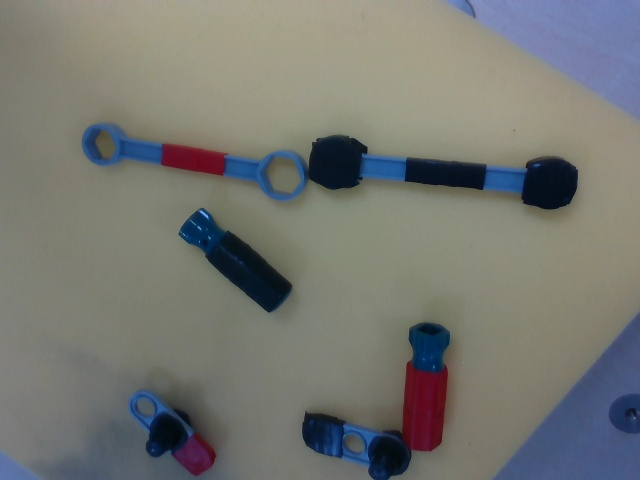part_1_good: (126, 387, 218, 479)
